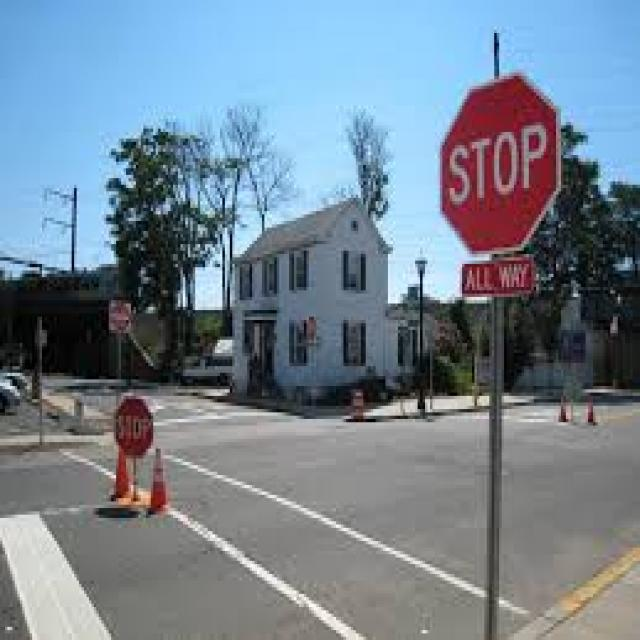stop-sign: (433, 77, 584, 260), (106, 379, 203, 466)
